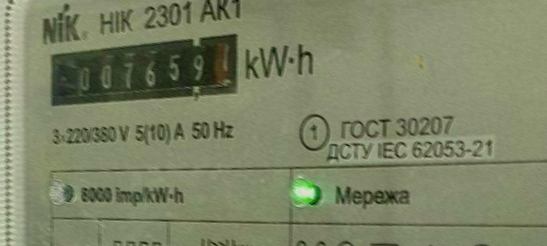0: (100, 63, 115, 91), (79, 64, 93, 92)
1: (219, 43, 233, 75)
5: (166, 52, 183, 85)
6: (144, 58, 159, 89)
7: (121, 58, 137, 91)
9: (190, 51, 208, 85)
screen: (35, 16, 261, 125)
